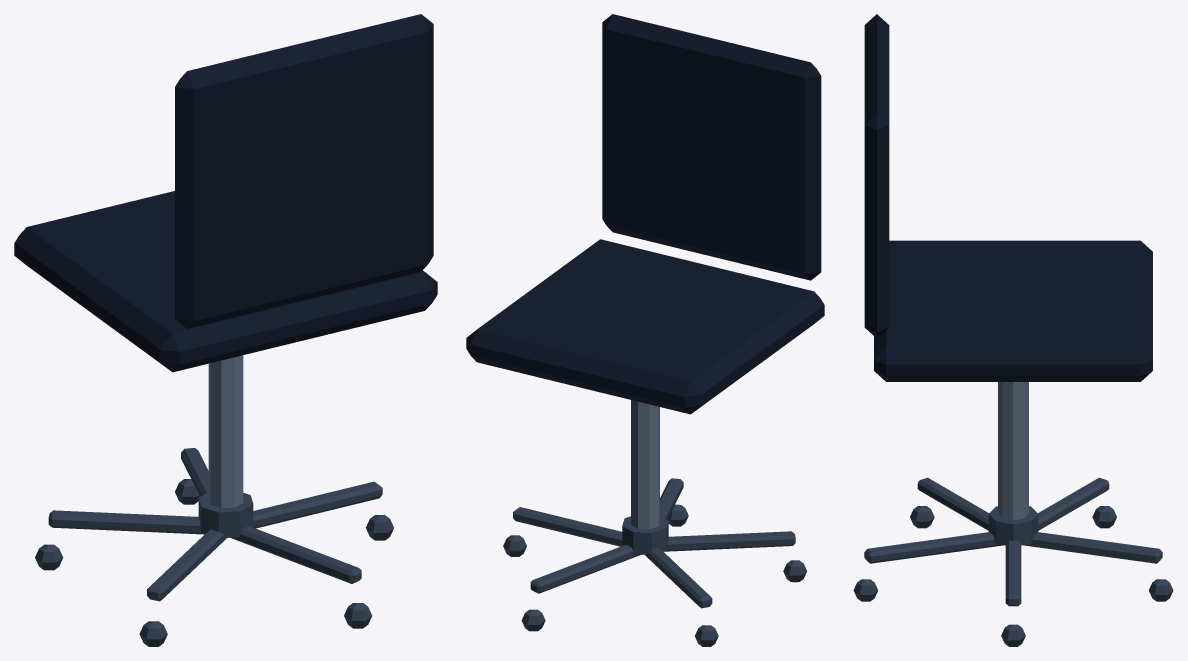
The model's file is chair.glb.
The picture shows the model from 3 angles, left to right: view 1: azimuth 30°, elevation 25°; view 2: azimuth 150°, elevation 25°; view 3: azimuth 270°, elevation 25°; orthographic projection. The views are drawn at different scales.
Visible parts, largest first — view 1: Chair; view 2: Chair; view 3: Chair.
Part boxes in pixels (left/top/right/bottom): Chair: left=14, top=14, right=437, bottom=646; Chair: left=466, top=14, right=824, bottom=646; Chair: left=853, top=14, right=1173, bottom=646.
Bounding box in the file's own units: 0.4923 × 0.92 × 0.5155.
